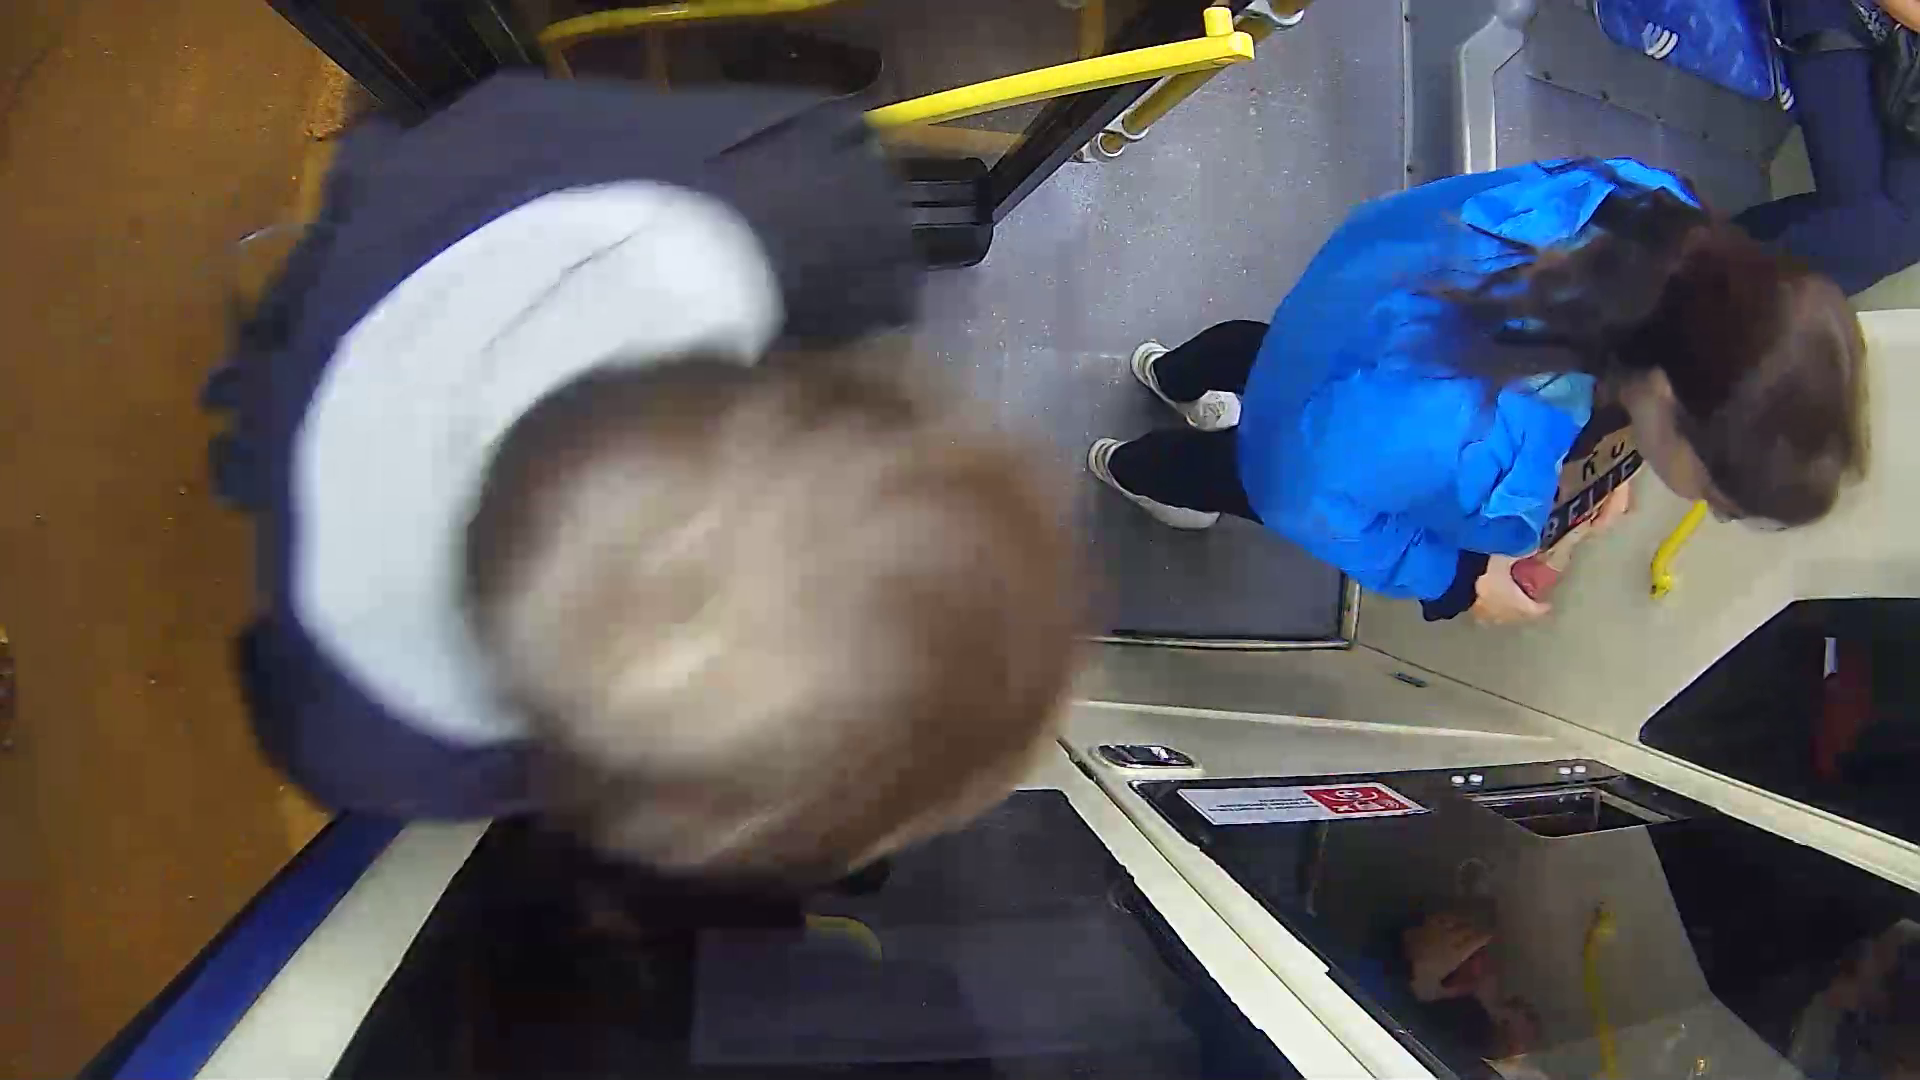person: (228, 108, 1089, 872), (1114, 92, 1889, 697)
